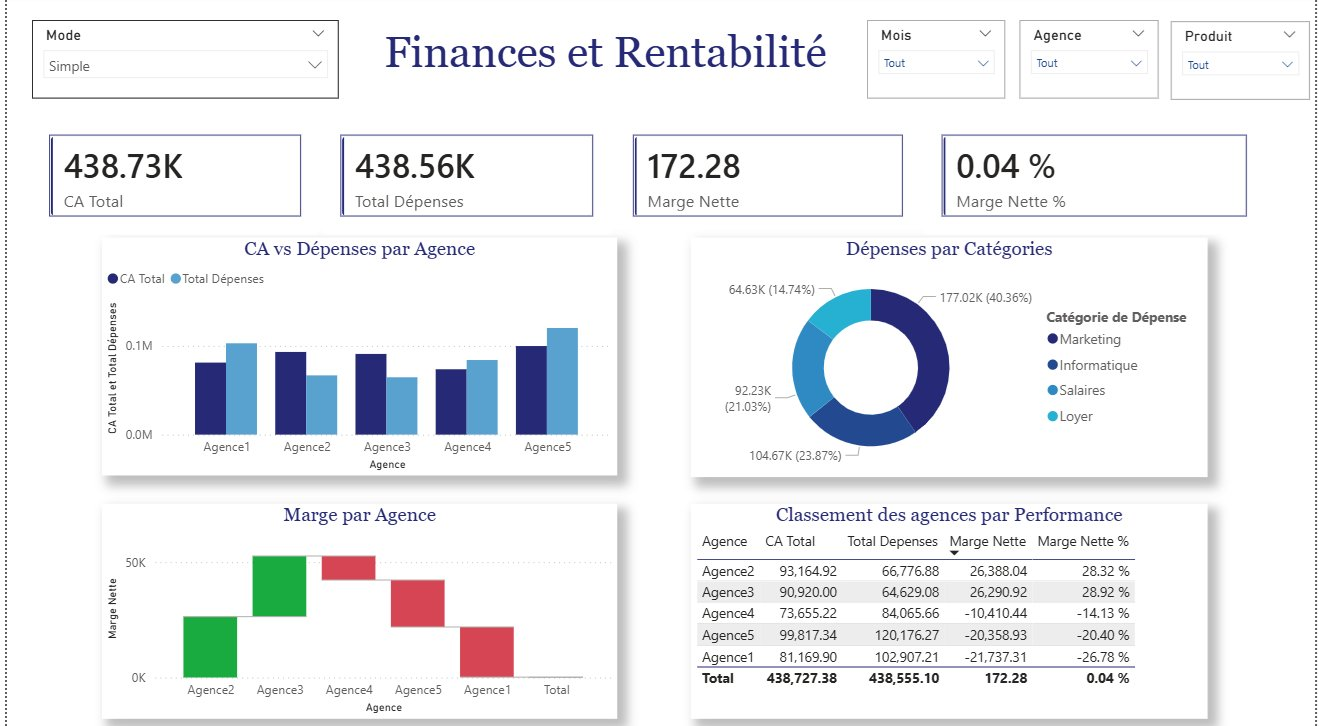

The dashboard page shown, as its layout file describes it:
{"tool":"powerbi","page":{"name":"Finances et Rentabilité","canvas":[1280,720],"ordinal":1},"visuals":[{"type":"donutChart","title":"Dépenses par Catégories","fields":{"Y":["_Measures.Total Depenses"],"Category":["DWH FACT_DEPENSES.Categorie_Depense"]},"box":[668.6,237.1,505.7,234.3],"z":0},{"type":"textbox","box":[358.6,27.1,454.4,71.7],"z":1000},{"type":"clusteredColumnChart","title":"CA vs Dépenses par Agence","fields":{"Category":["DWH DIM_AGENCE.Nom_Agence"],"Y":["_Measures.CA Total","_Measures.Total Depenses"]},"box":[92.9,237.1,504.3,232.9],"z":2000},{"type":"waterfallChart","title":"Marge par Agence","fields":{"Category":["DWH DIM_AGENCE.Nom_Agence"],"Y":["_Measures.Marge Nette"]},"box":[92.9,497.1,504.3,210],"z":3000},{"type":"tableEx","title":"Classement des agences par Performance","fields":{"Values":["DWH DIM_AGENCE.Nom_Agence","_Measures.CA Total","_Measures.Total Depenses","_Measures.Marge Nette","_Measures.Marge Nette %"]},"box":[668.6,497.1,505.7,210],"z":4000},{"type":"slicer","fields":{"Values":["DWH DIM_DATE.Mois"]},"box":[841.9,24.1,135.6,77.1],"z":5000},{"type":"slicer","fields":{"Values":["DWH DIM_AGENCE.Nom_Agence"]},"box":[990.7,24.7,136.2,77.1],"z":6000},{"type":"slicer","fields":{"Values":["DWH DIM_PRODUIT.Nom_Produit"]},"box":[1139,25.9,136.2,77.1],"z":7000},{"type":"cardVisual","fields":{"Data":["_Measures.CA Total"]},"box":[25,119.9,280,114.3],"z":8000},{"type":"cardVisual","fields":{"Data":["_Measures.Total Depenses"]},"box":[309.3,119.9,281.4,114.3],"z":9000},{"type":"cardVisual","fields":{"Data":["_Measures.Marge Nette"]},"box":[595,119.9,298.6,114.3],"z":10000},{"type":"cardVisual","fields":{"Data":["_Measures.Marge Nette %"]},"box":[897.9,119.9,332.9,114.3],"z":11000},{"type":"slicer","fields":{"Values":["Mode Affichage.Mode"]},"box":[25,25,300,76.7],"z":11001}]}

Visuals, with their boxes in screenshot pixels (x1, y1, x2, y2), scaled from the page's 1280x720 canvas onto the 1319x726 screenshot:
"Dépenses par Catégories" donutChart: <region>689, 239, 1210, 475</region>
textbox: <region>370, 27, 838, 100</region>
"CA vs Dépenses par Agence" clusteredColumnChart: <region>96, 239, 615, 474</region>
"Marge par Agence" waterfallChart: <region>96, 501, 615, 713</region>
"Classement des agences par Performance" tableEx: <region>689, 501, 1210, 713</region>
slicer - DWH DIM_DATE.Mois: <region>868, 24, 1007, 102</region>
slicer - DWH DIM_AGENCE.Nom_Agence: <region>1021, 25, 1161, 103</region>
slicer - DWH DIM_PRODUIT.Nom_Produit: <region>1174, 26, 1314, 104</region>
cardVisual - _Measures.CA Total: <region>26, 121, 314, 236</region>
cardVisual - _Measures.Total Depenses: <region>319, 121, 609, 236</region>
cardVisual - _Measures.Marge Nette: <region>613, 121, 921, 236</region>
cardVisual - _Measures.Marge Nette %: <region>925, 121, 1268, 236</region>
slicer - Mode Affichage.Mode: <region>26, 25, 335, 103</region>
